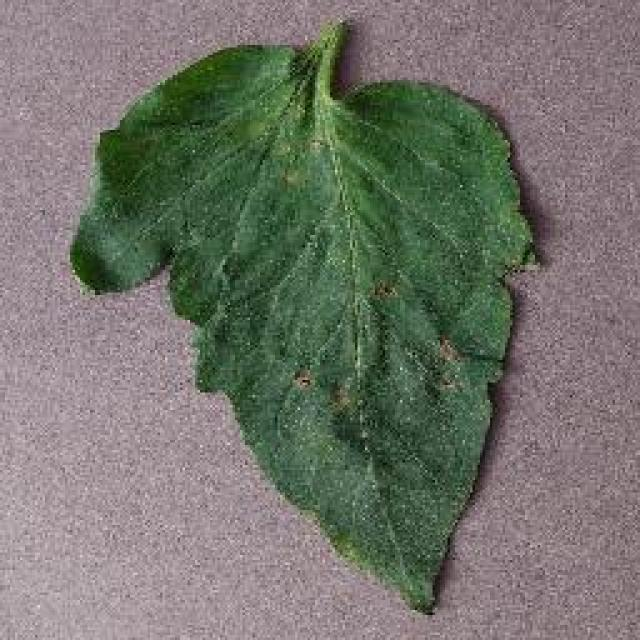Tomato___Target_Spot: (70, 22, 532, 610)
